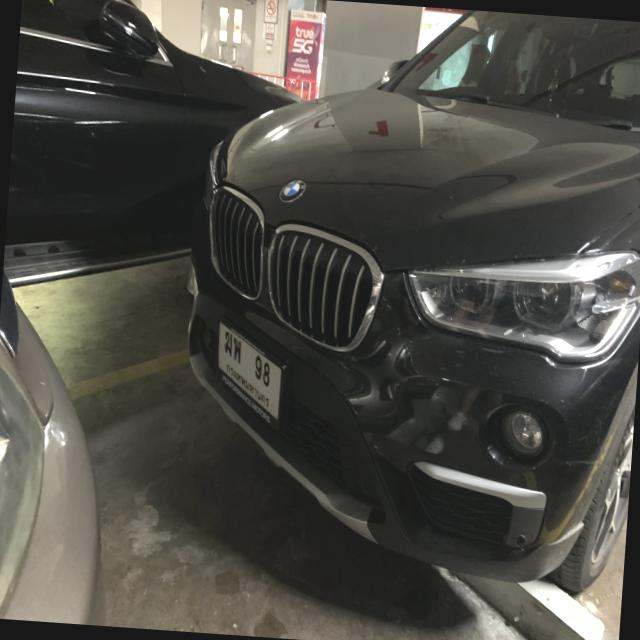license_plate: (208, 316, 292, 432)
